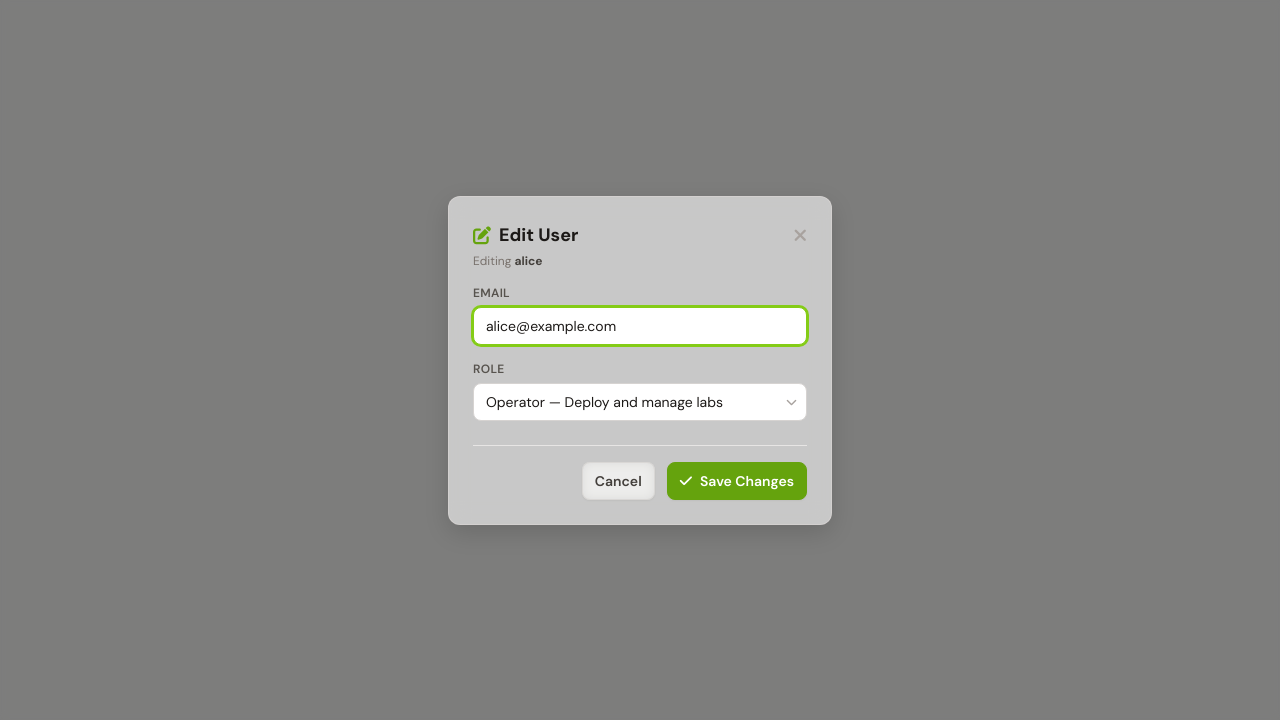
Test case: UserEditModal › surfaces an Error message on PATCH failure
Click the button "Save Changes".
click(737, 480)  # box [667, 462, 807, 500]
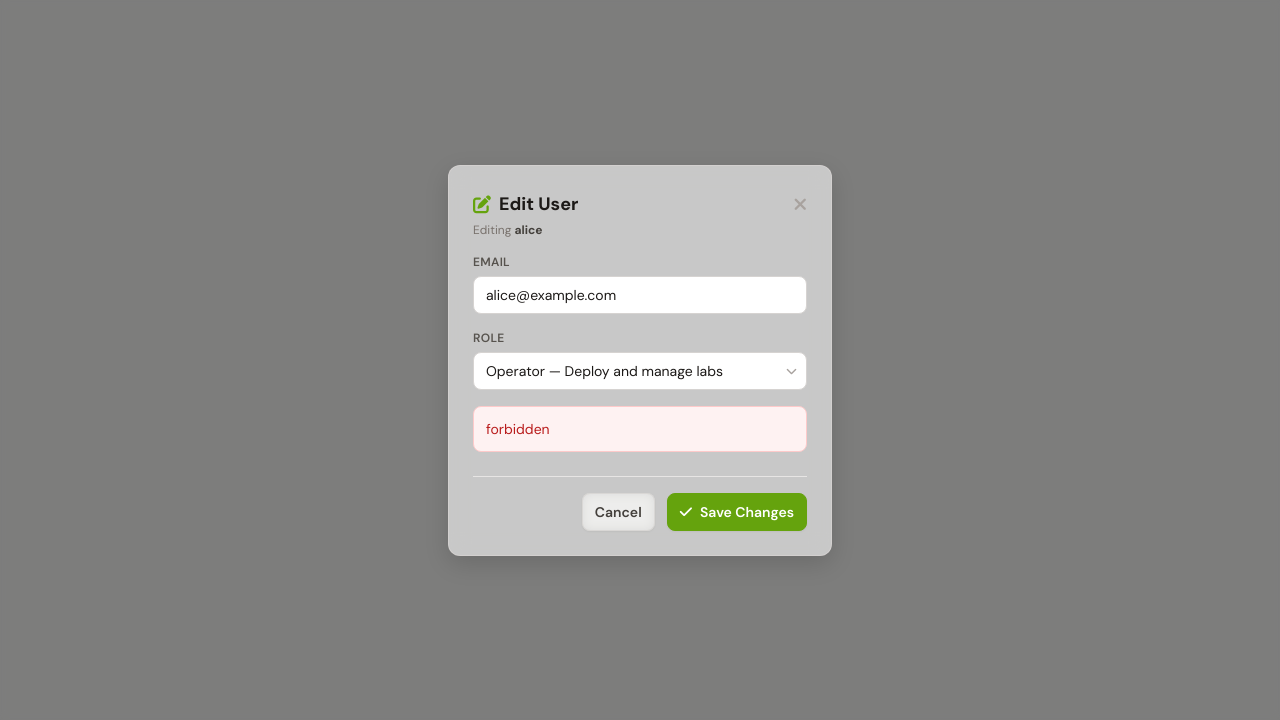
Check: the text "forbidden" is shown, box [473, 406, 807, 452]
